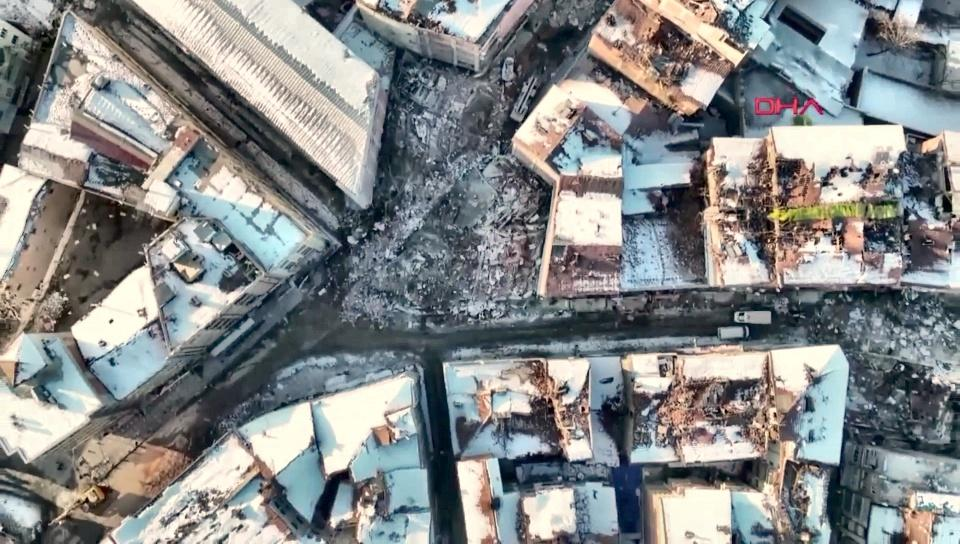kapali: (296, 30, 567, 339), (770, 289, 959, 370), (542, 0, 615, 48)
